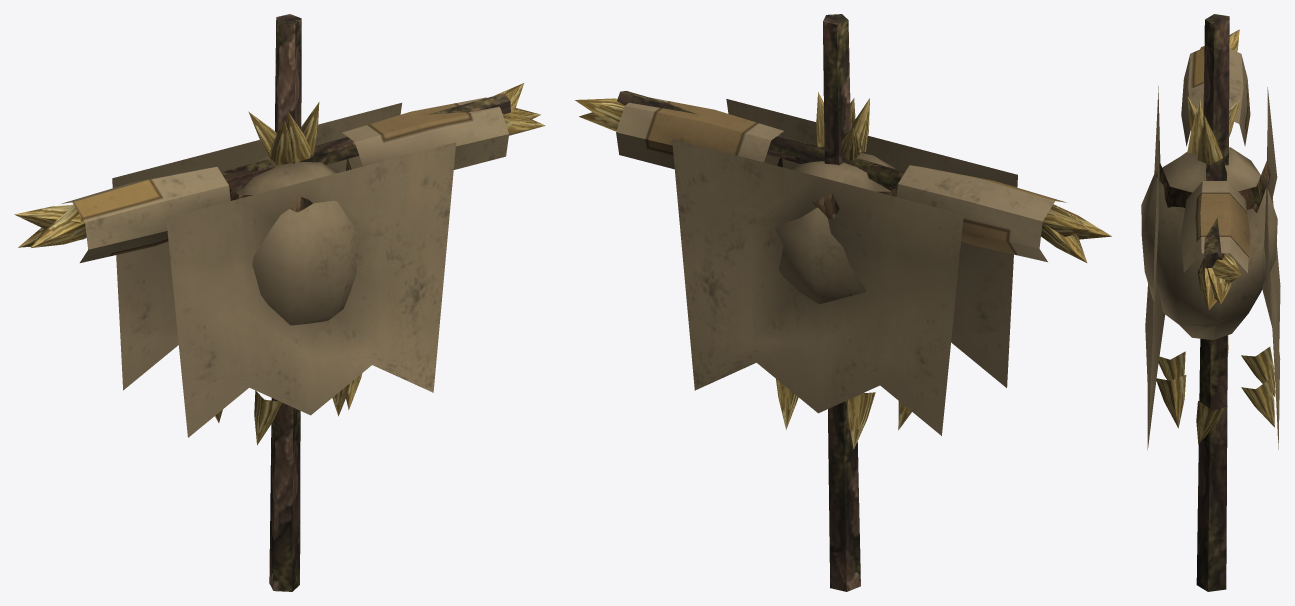
Rendered from camp_scarecrow_pole.glb.
The picture shows the model from 3 angles, left to right: view 1: azimuth 30°, elevation 25°; view 2: azimuth 150°, elevation 25°; view 3: azimuth 270°, elevation 25°; orthographic projection.
Parts seen in each view (by area): view 1: camp_scarecrow_pole; view 2: camp_scarecrow_pole; view 3: camp_scarecrow_pole.
Boxes of the visible parts, <box> form: camp_scarecrow_pole: <box>14,14,545,591</box>; camp_scarecrow_pole: <box>575,14,1111,591</box>; camp_scarecrow_pole: <box>1141,14,1280,591</box>.
Bounding box in the file's own units: 2.23 × 2.3 × 0.5093.
Materials: 4 (4 with a texture image).
